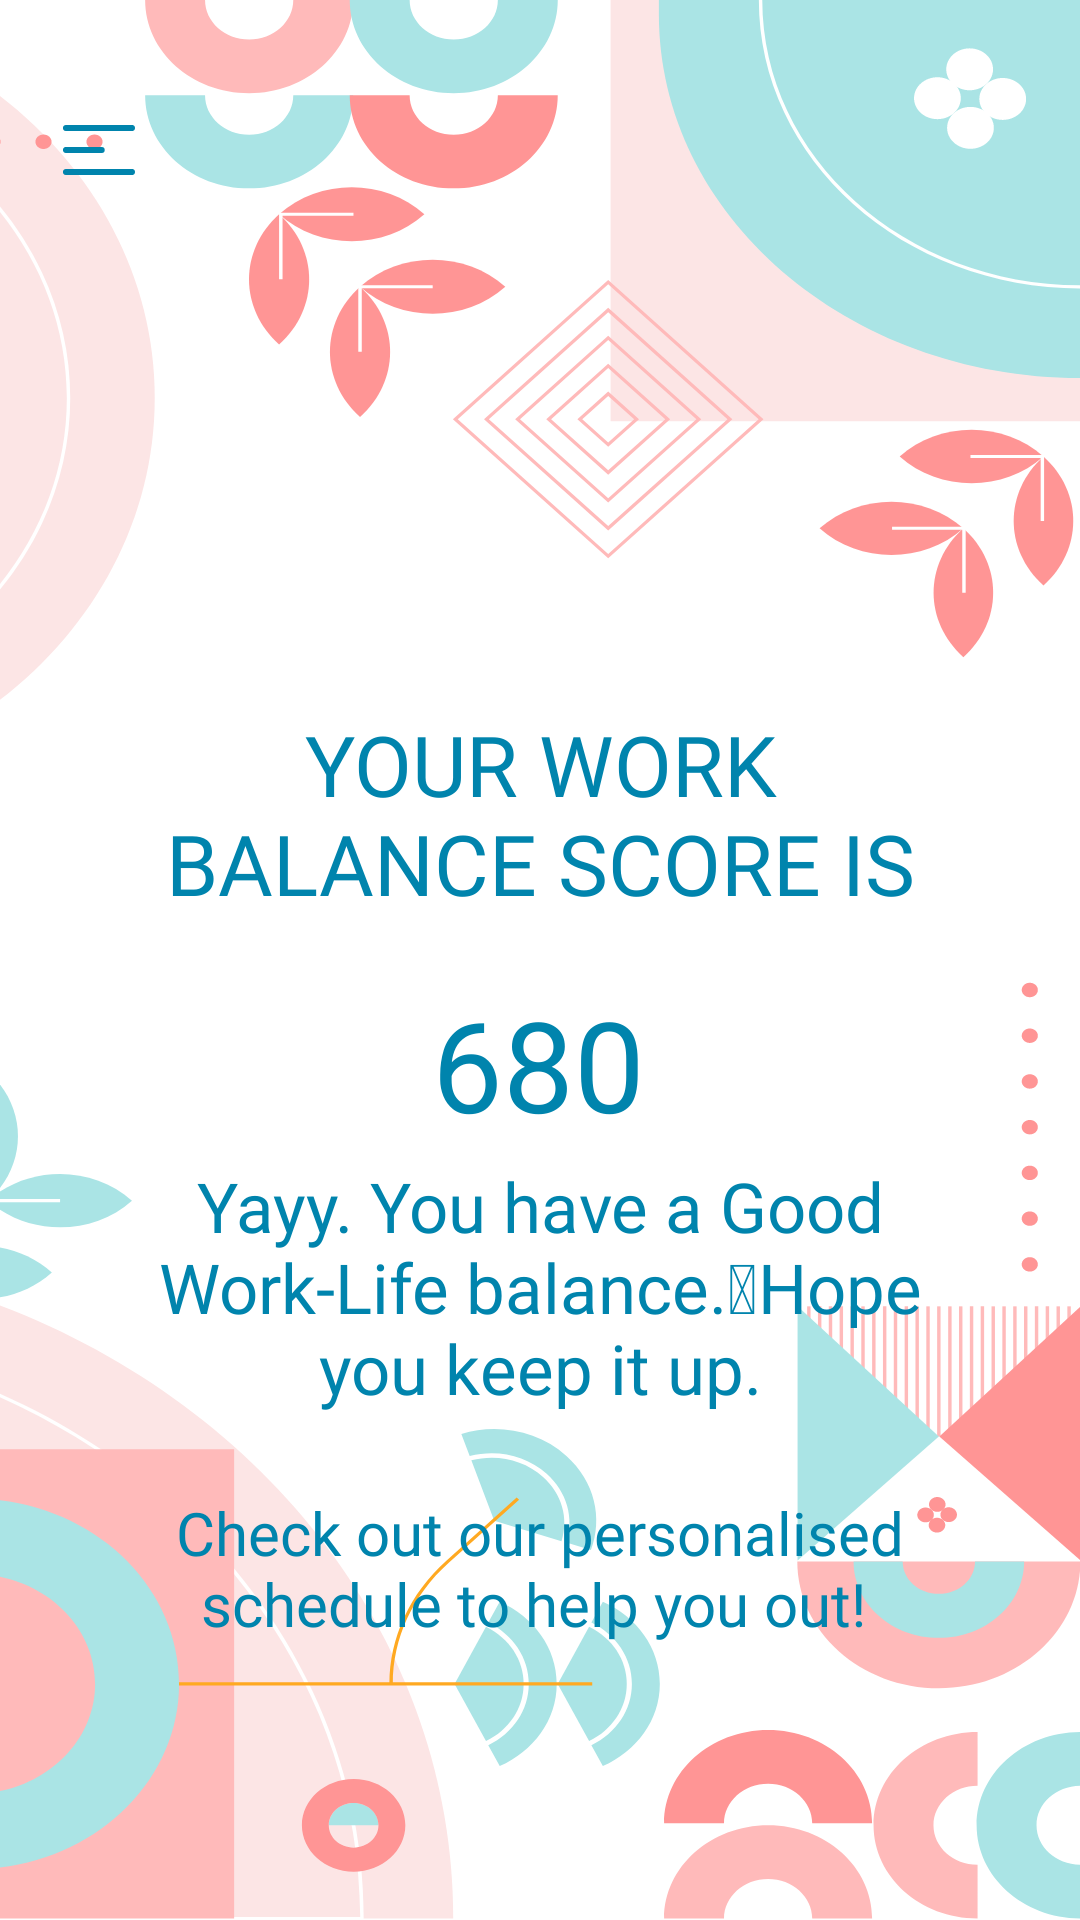

Screen size 1080×1920. Icon name, then its center in pixels as point (x, y):
hamburger: point (94, 160)
